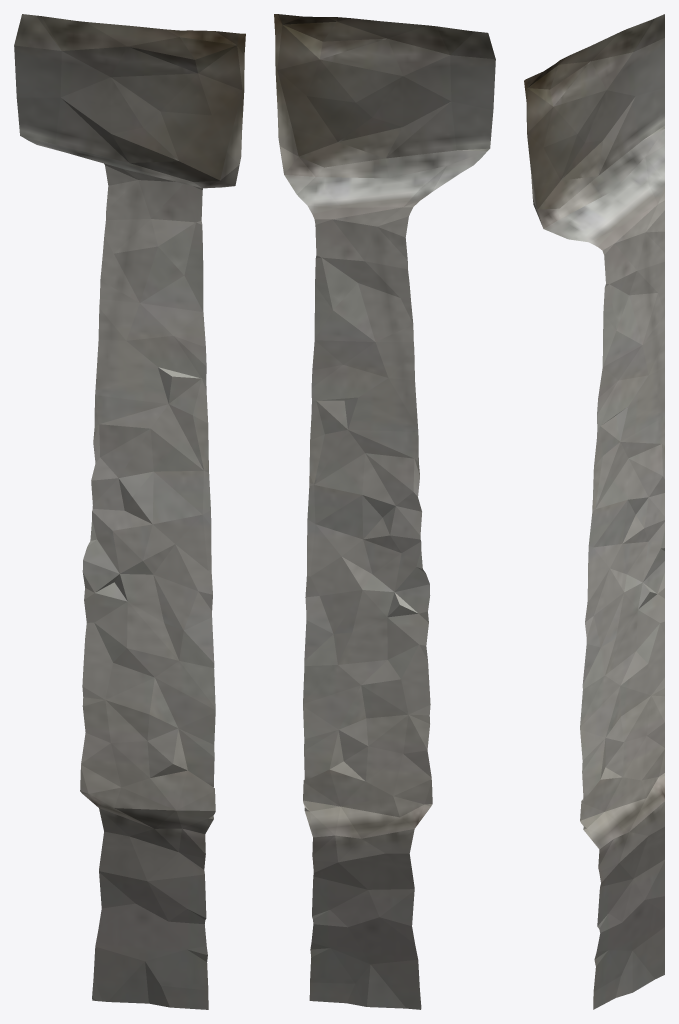
The picture shows the model from 3 angles, left to right: view 1: azimuth 30°, elevation 25°; view 2: azimuth 210°, elevation 25°; view 3: azimuth 270°, elevation 25°; orthographic projection. The views are drawn at different scales.
Bounding box in the file's own units: 0.136 × 0.8374 × 0.1151.
1 material, 1 textured.
